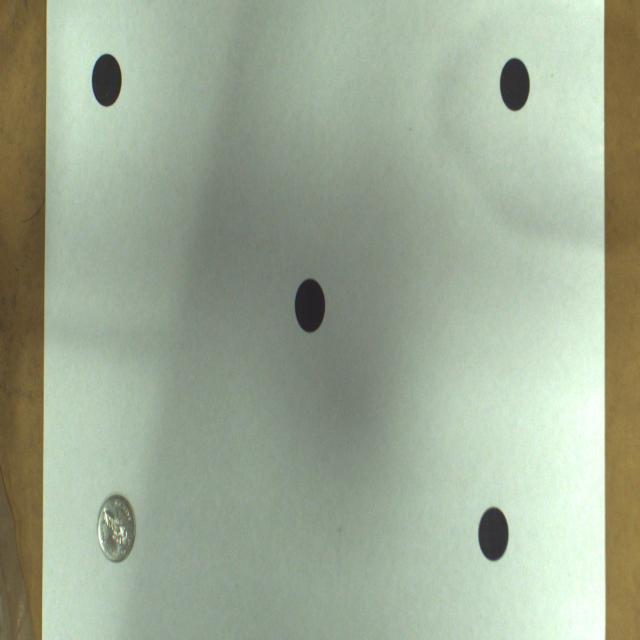space: (295, 278, 325, 333), (91, 53, 121, 107), (500, 58, 530, 111), (479, 507, 509, 560)
tail1bath: (98, 496, 135, 562)
